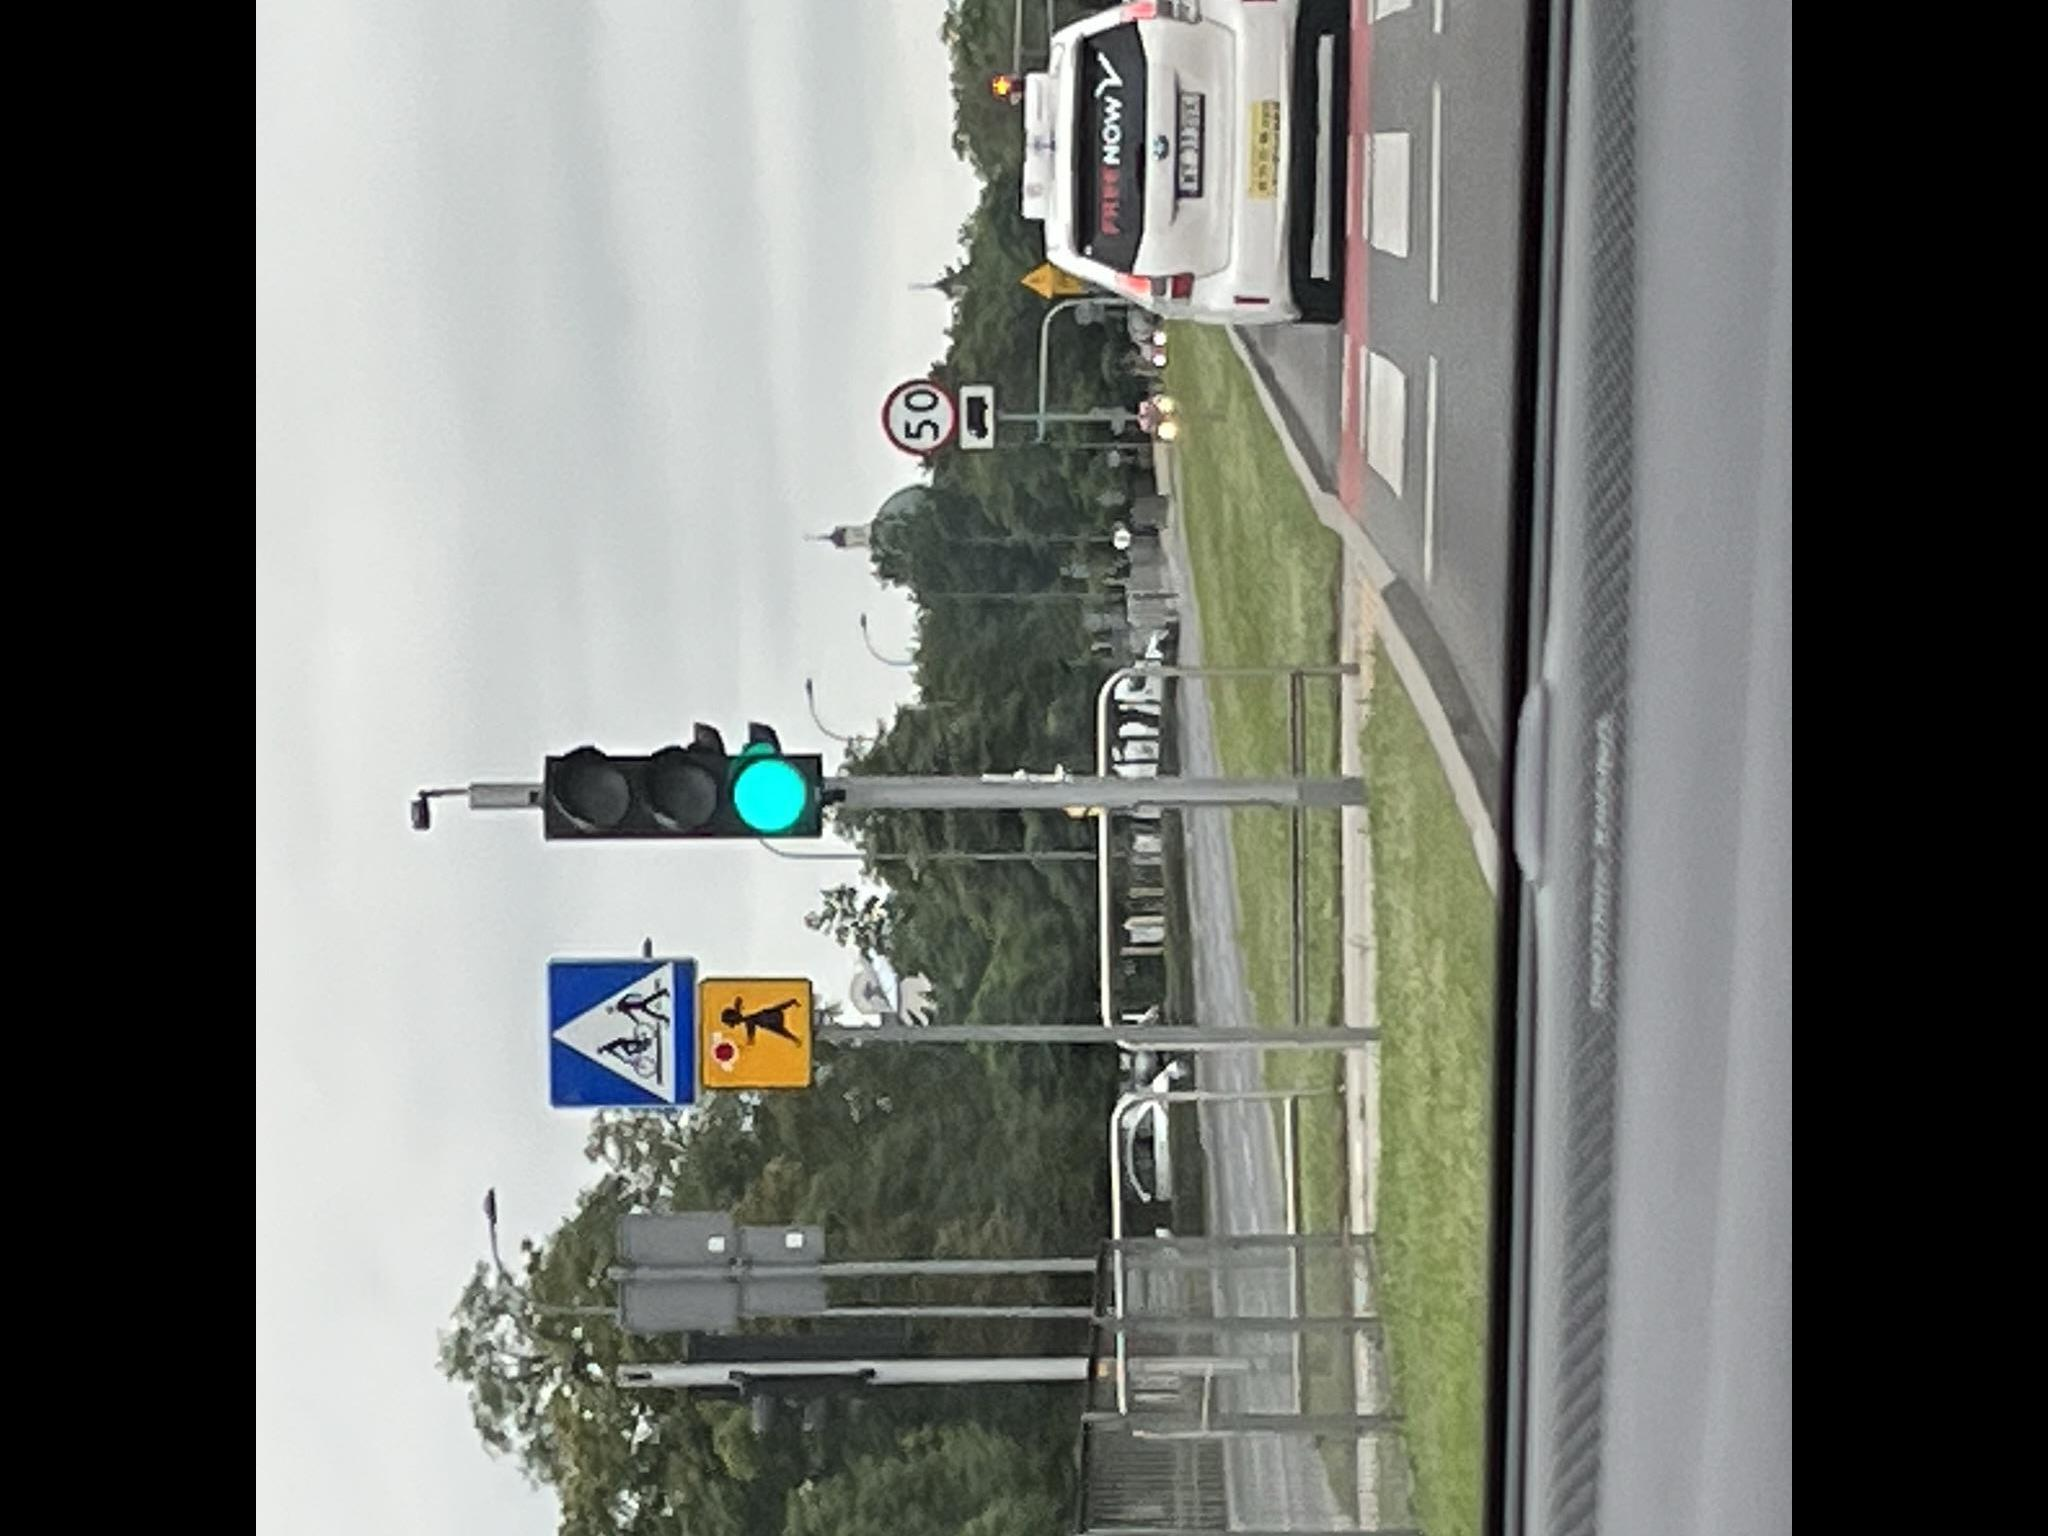information: (547, 955, 701, 1110)
other: (698, 975, 813, 1089), (958, 381, 998, 450)
prohibitory: (879, 378, 958, 455)
warning: (1019, 260, 1055, 300)
